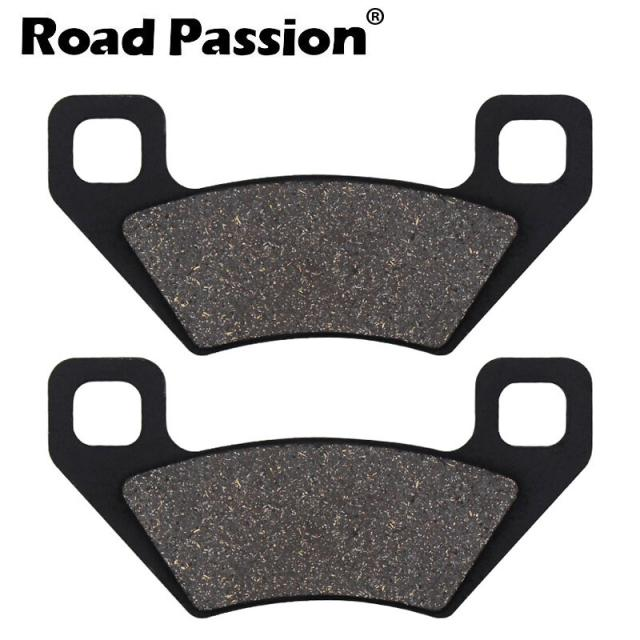brake_pad: (37, 357, 607, 631), (45, 85, 602, 353)
